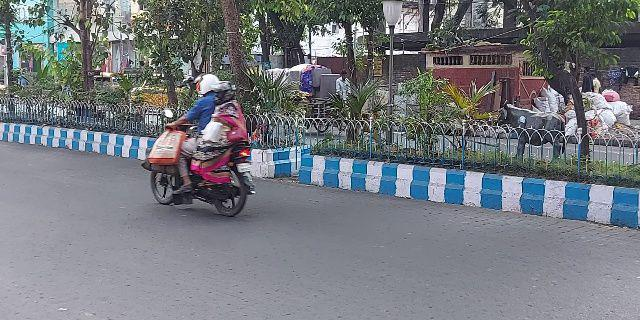Motorbike: (140, 67, 258, 219)
